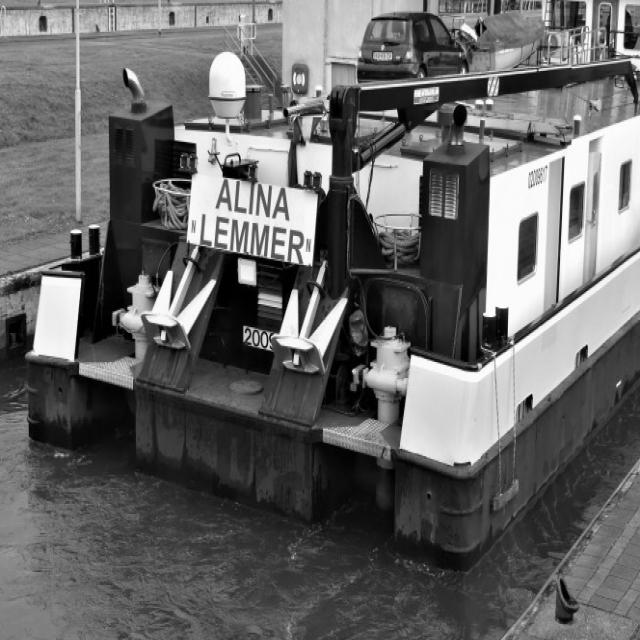tugboat: (18, 1, 640, 579)
